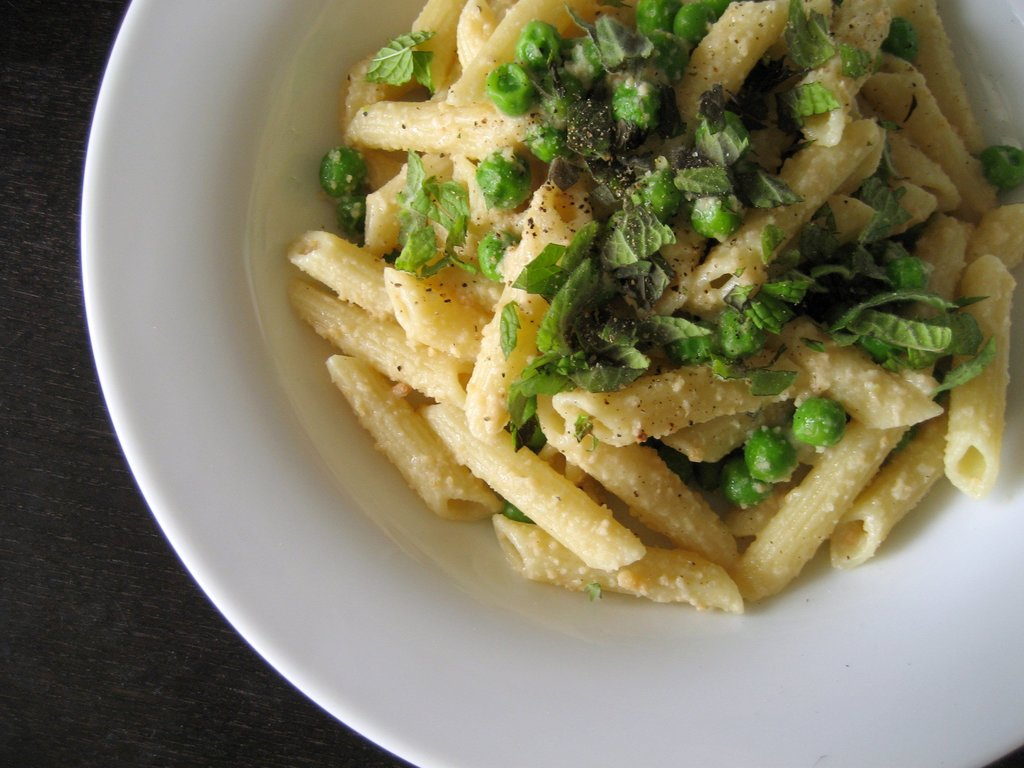pasta: (285, 0, 1023, 615)
